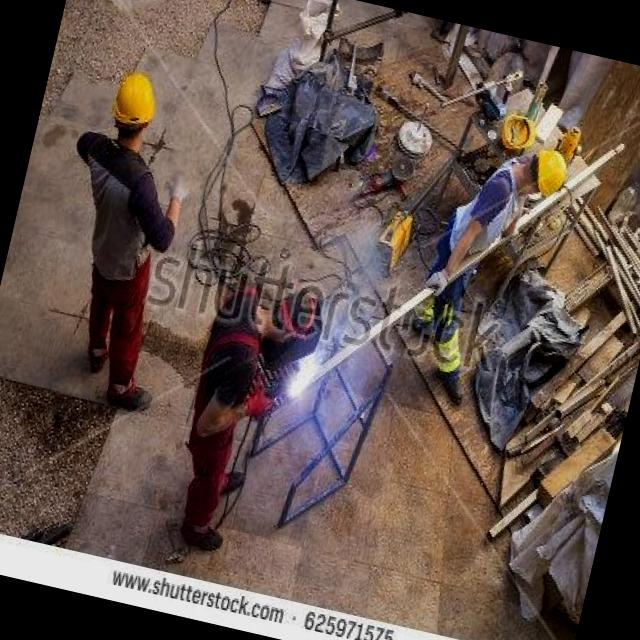helmet: (106, 68, 160, 130), (526, 148, 568, 196)
no-helmet: (284, 283, 332, 364)
no-vest: (51, 139, 186, 314), (178, 276, 270, 432), (446, 154, 529, 270)
